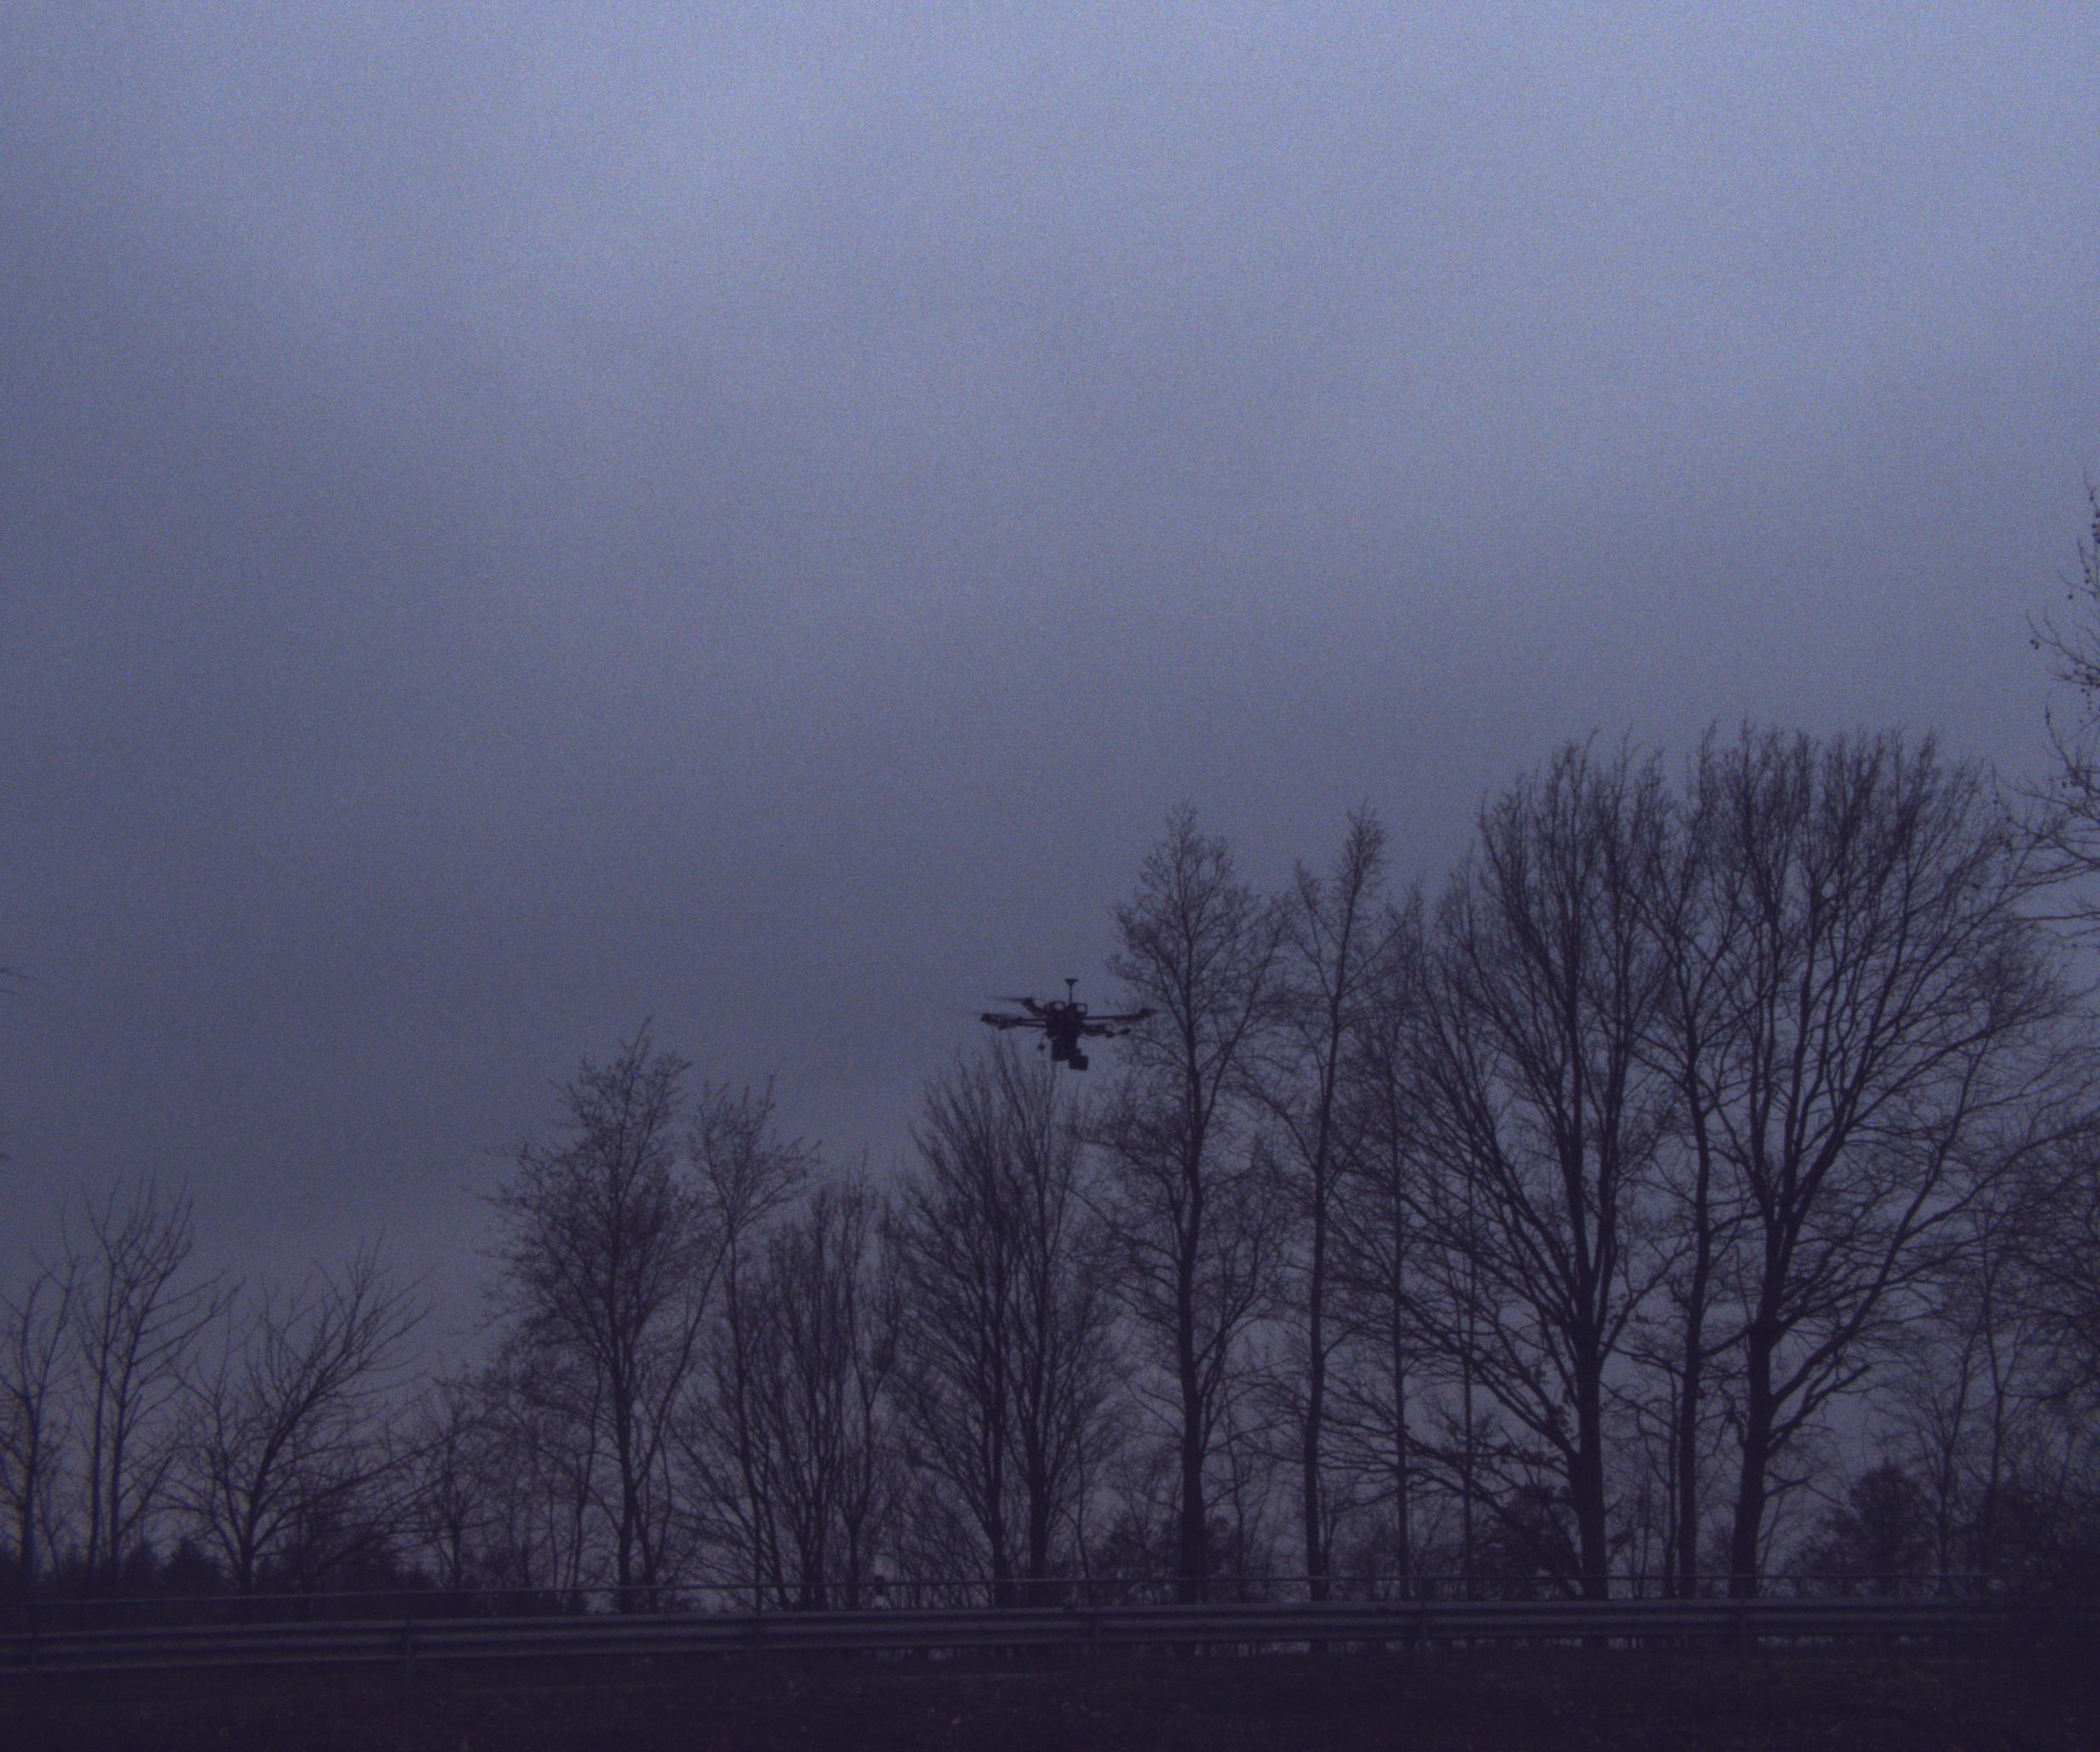Drohne: (881, 943, 1219, 1133)
